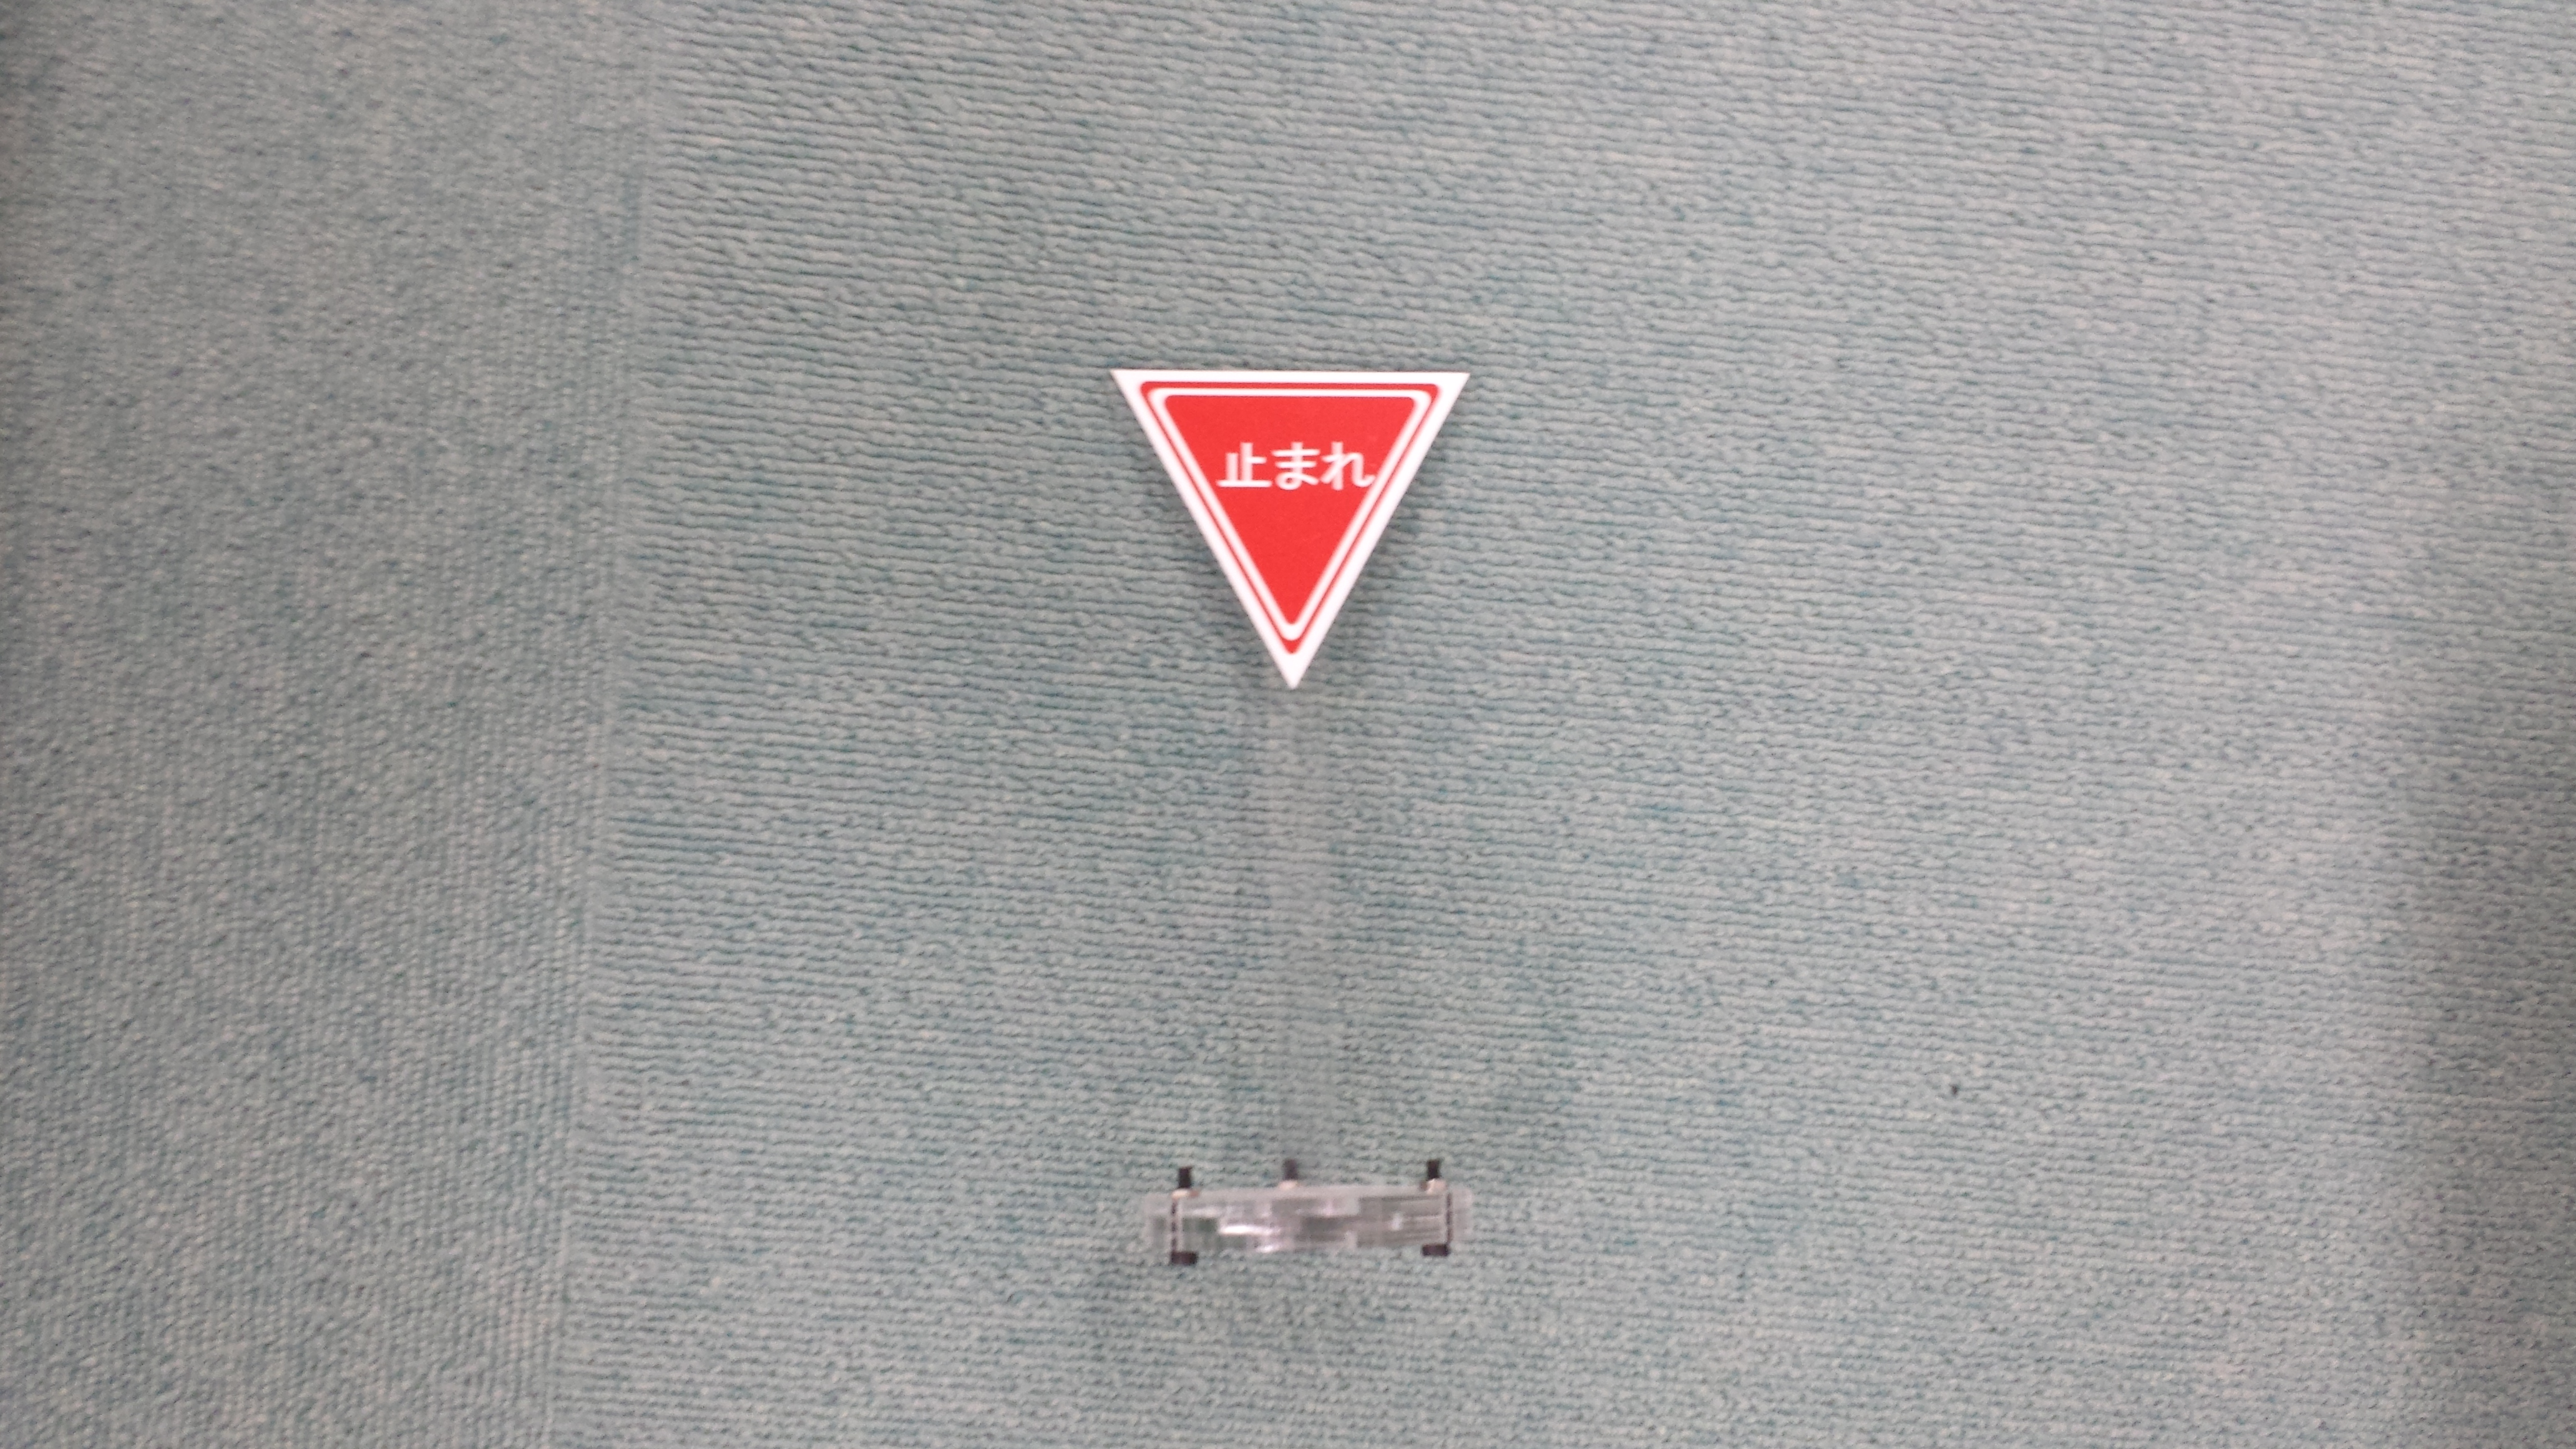stop: (1129, 382, 1463, 688)
